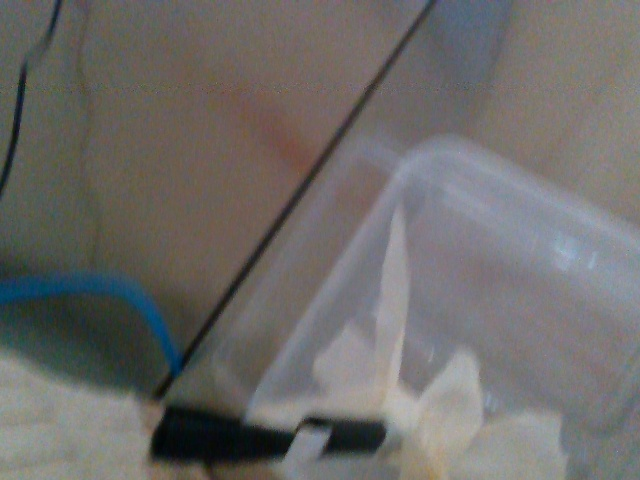test_strip: (145, 402, 328, 467)
